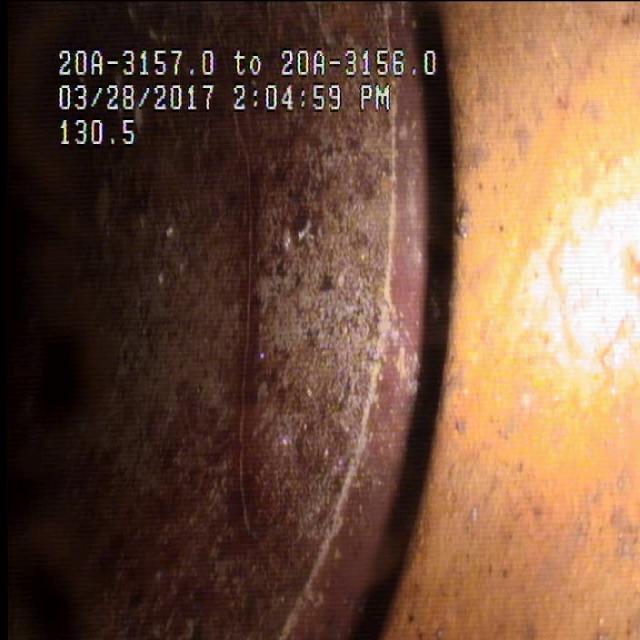Crack: (220, 128, 284, 513)
